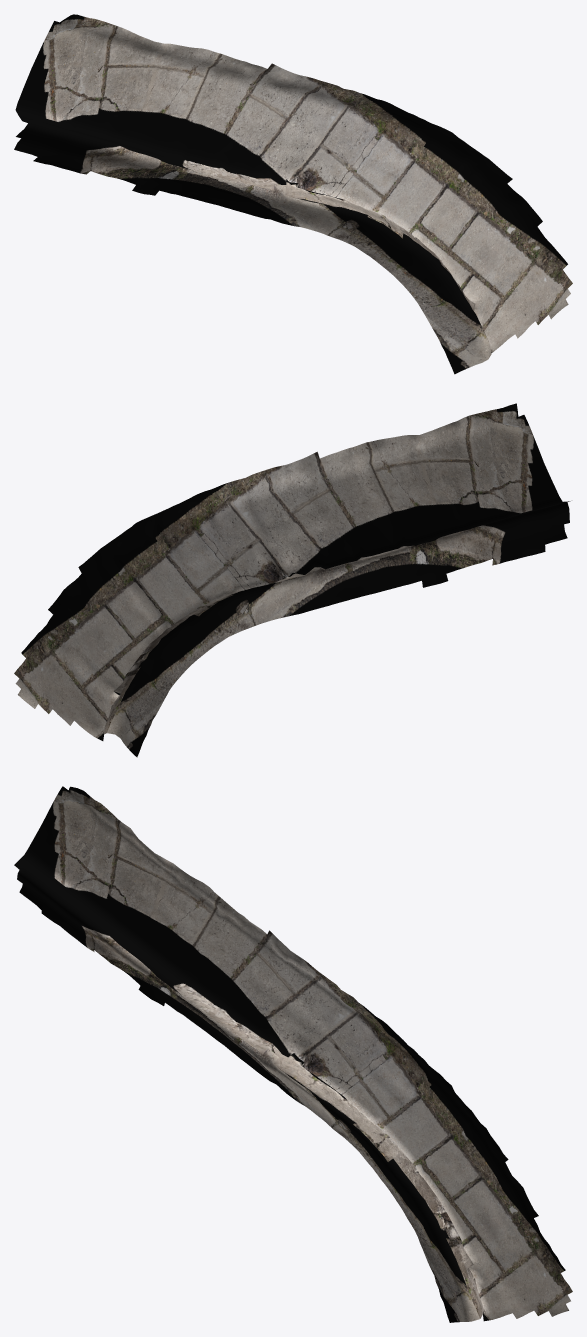
File: pathway.obj
The picture shows the model from 3 angles, top to bottom: view 1: azimuth 30°, elevation 25°; view 2: azimuth 150°, elevation 25°; view 3: azimuth 330°, elevation 25°; orthographic projection. The views are drawn at different scales.
Parts seen in each view (by area): view 1: pathway; view 2: pathway; view 3: pathway.
Boxes of the visible parts, x1,y1,x2,y2 form: pathway: (14, 14, 572, 374); pathway: (14, 403, 570, 757); pathway: (14, 786, 572, 1322).
Size of the model in its own units: 6.73 by 5.19 by 0.2791.
1 material, 1 textured.
